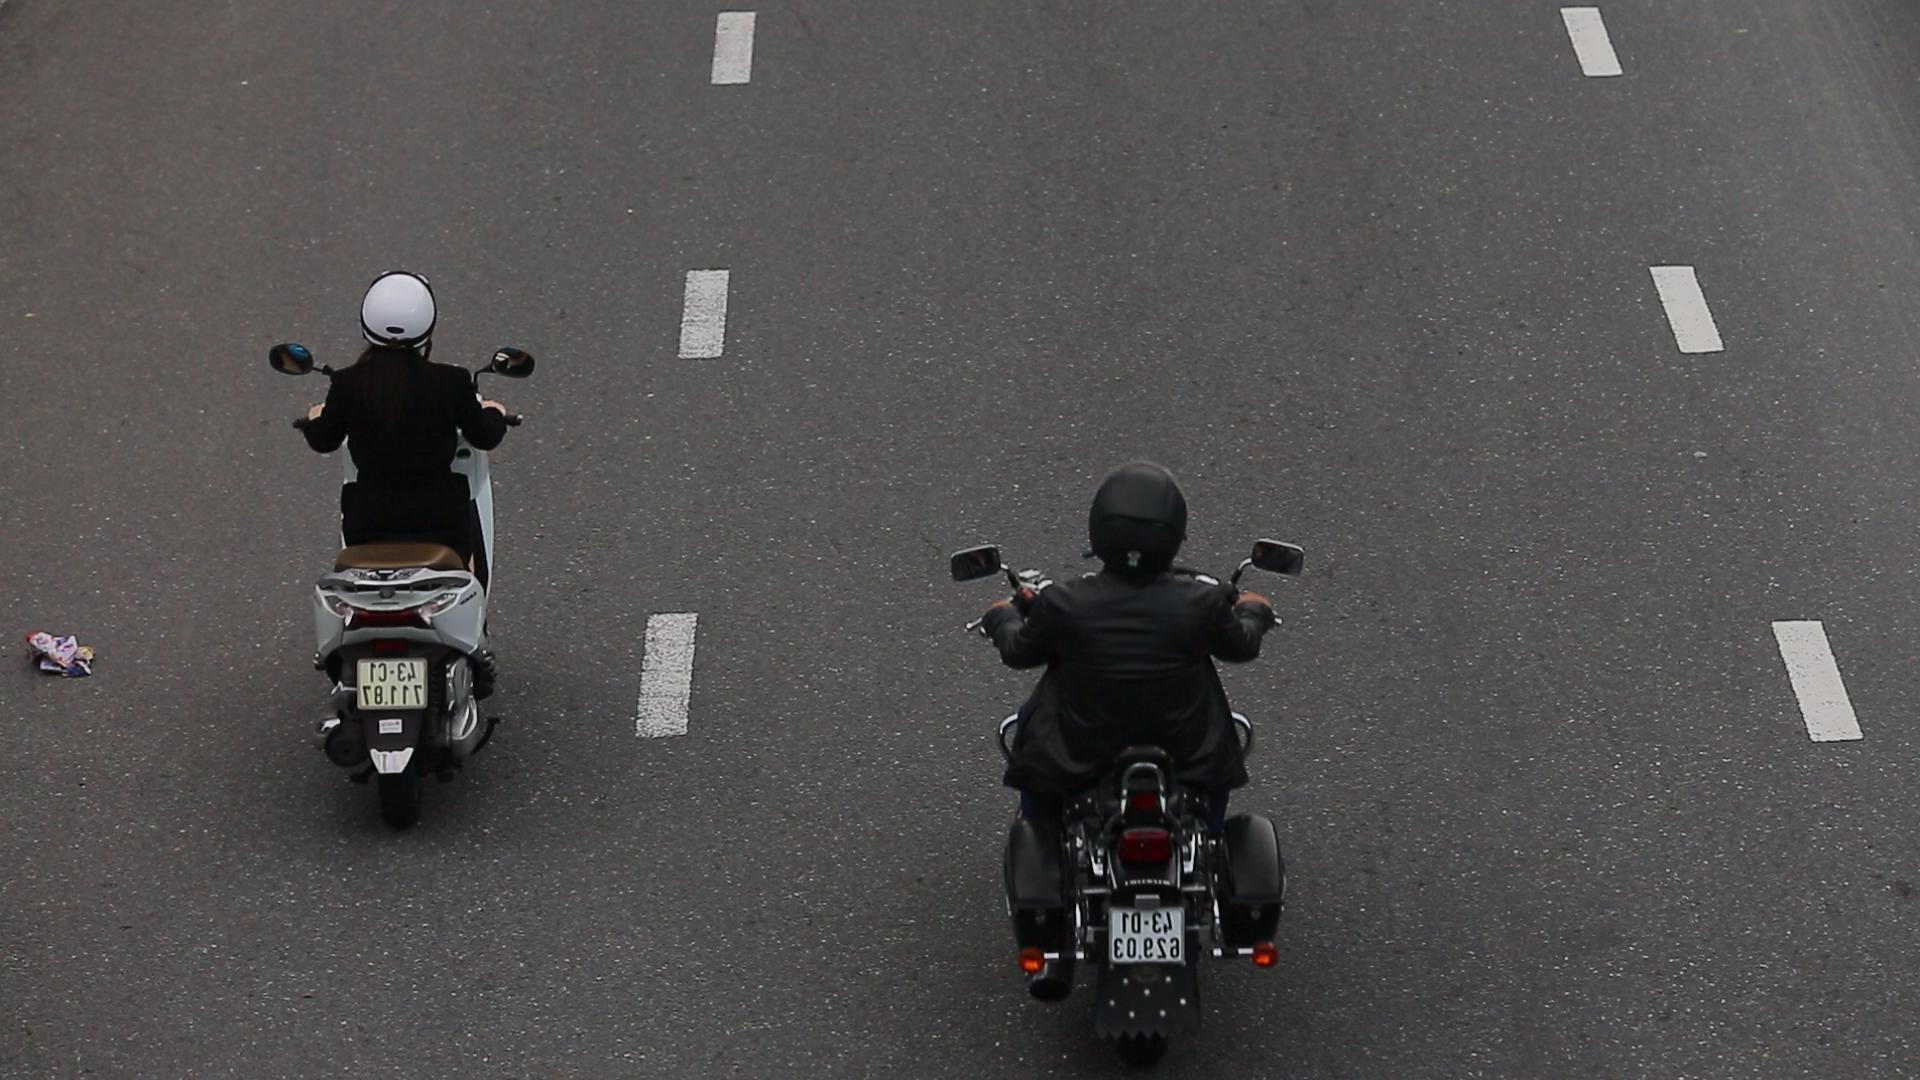motobike: (927, 419, 1333, 1080), (260, 251, 547, 839)
